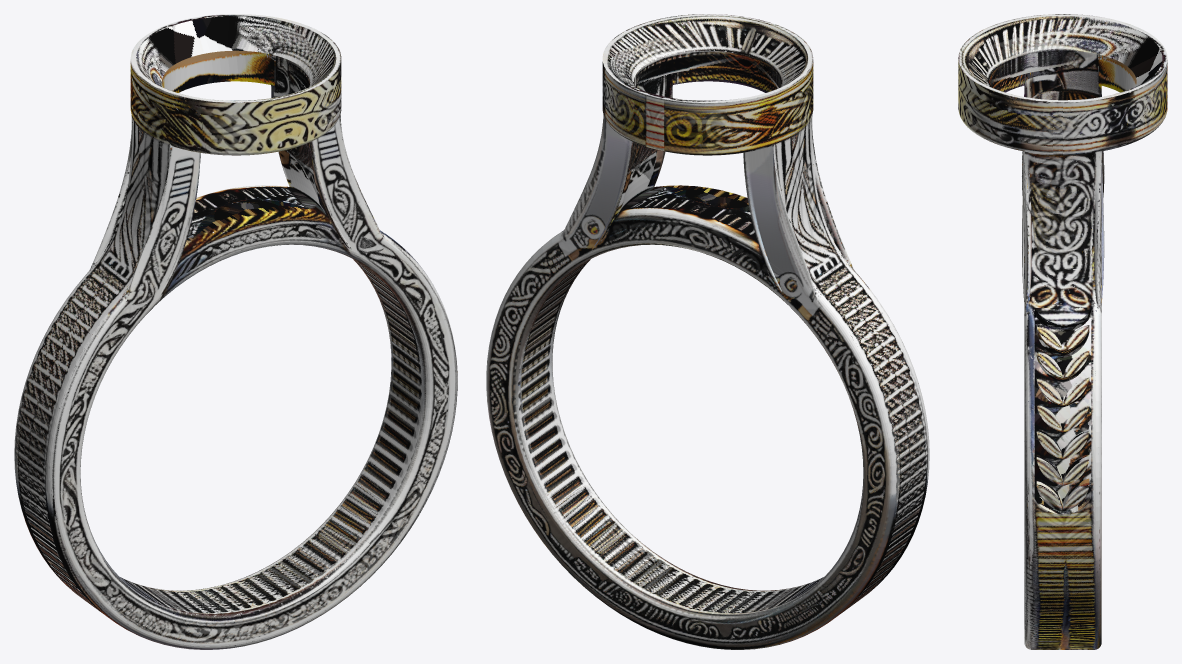
File: textured_image.glb
3 renders of one model, left to right at view 1: azimuth 30°, elevation 25°; view 2: azimuth 150°, elevation 25°; view 3: azimuth 270°, elevation 25°, orthographic.
Visible parts, largest first — view 1: Node; view 2: Node; view 3: Node.
Part boxes in pixels (box(x1,y1,x2,y2)): Node: box(14, 14, 457, 649); Node: box(486, 14, 929, 649); Node: box(958, 14, 1167, 649).
Bounding box in the file's own units: 1.5 × 2 × 0.6658.
Materials: 1 (1 with a texture image).
